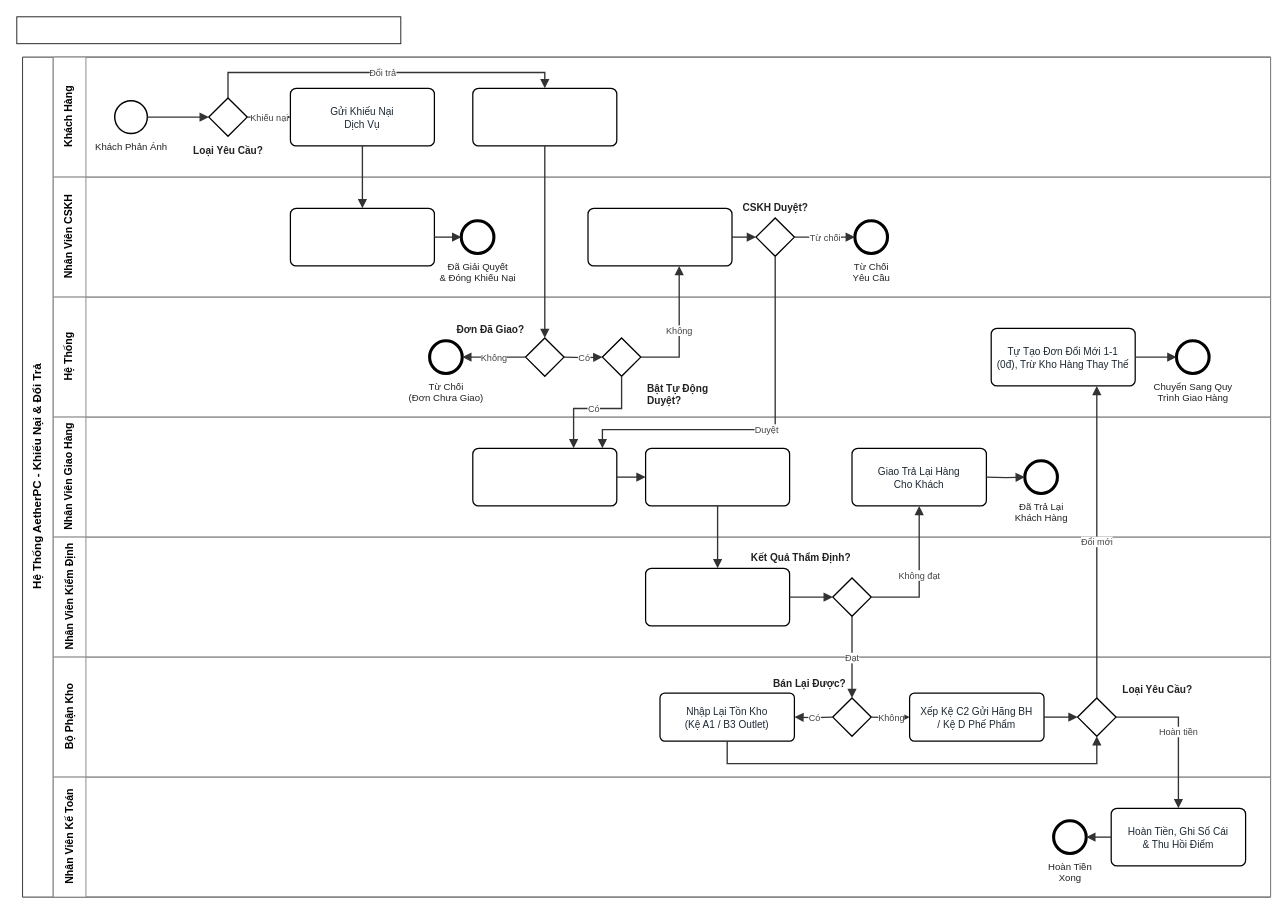
This 1287x914 diagram has some shape labels left out. Each missing label, with the box of its shape:
Bàn Giao Kiện Hàng Về Kho: (645, 447, 790, 506)
Gửi Yêu Cầu Đổi Trả / Hoàn Tiền: (472, 87, 617, 146)
Quy Trình Nghiệp Vụ Khiếu Nại & Đổi Trả / Bảo Hành: (16, 16, 401, 44)
Thu Hồi Hàng Tại Nhà Khách (Chụp Ảnh): (472, 447, 617, 506)
Thẩm Định Kỹ Thuật & Đối Soát Serial Đã Xuất: (645, 567, 790, 626)
Thẩm Định Yêu Cầu Đổi Trả: (587, 207, 732, 266)
Tiếp Nhận, Phân Công & Xử Lý Khiếu Nại: (289, 207, 435, 266)
